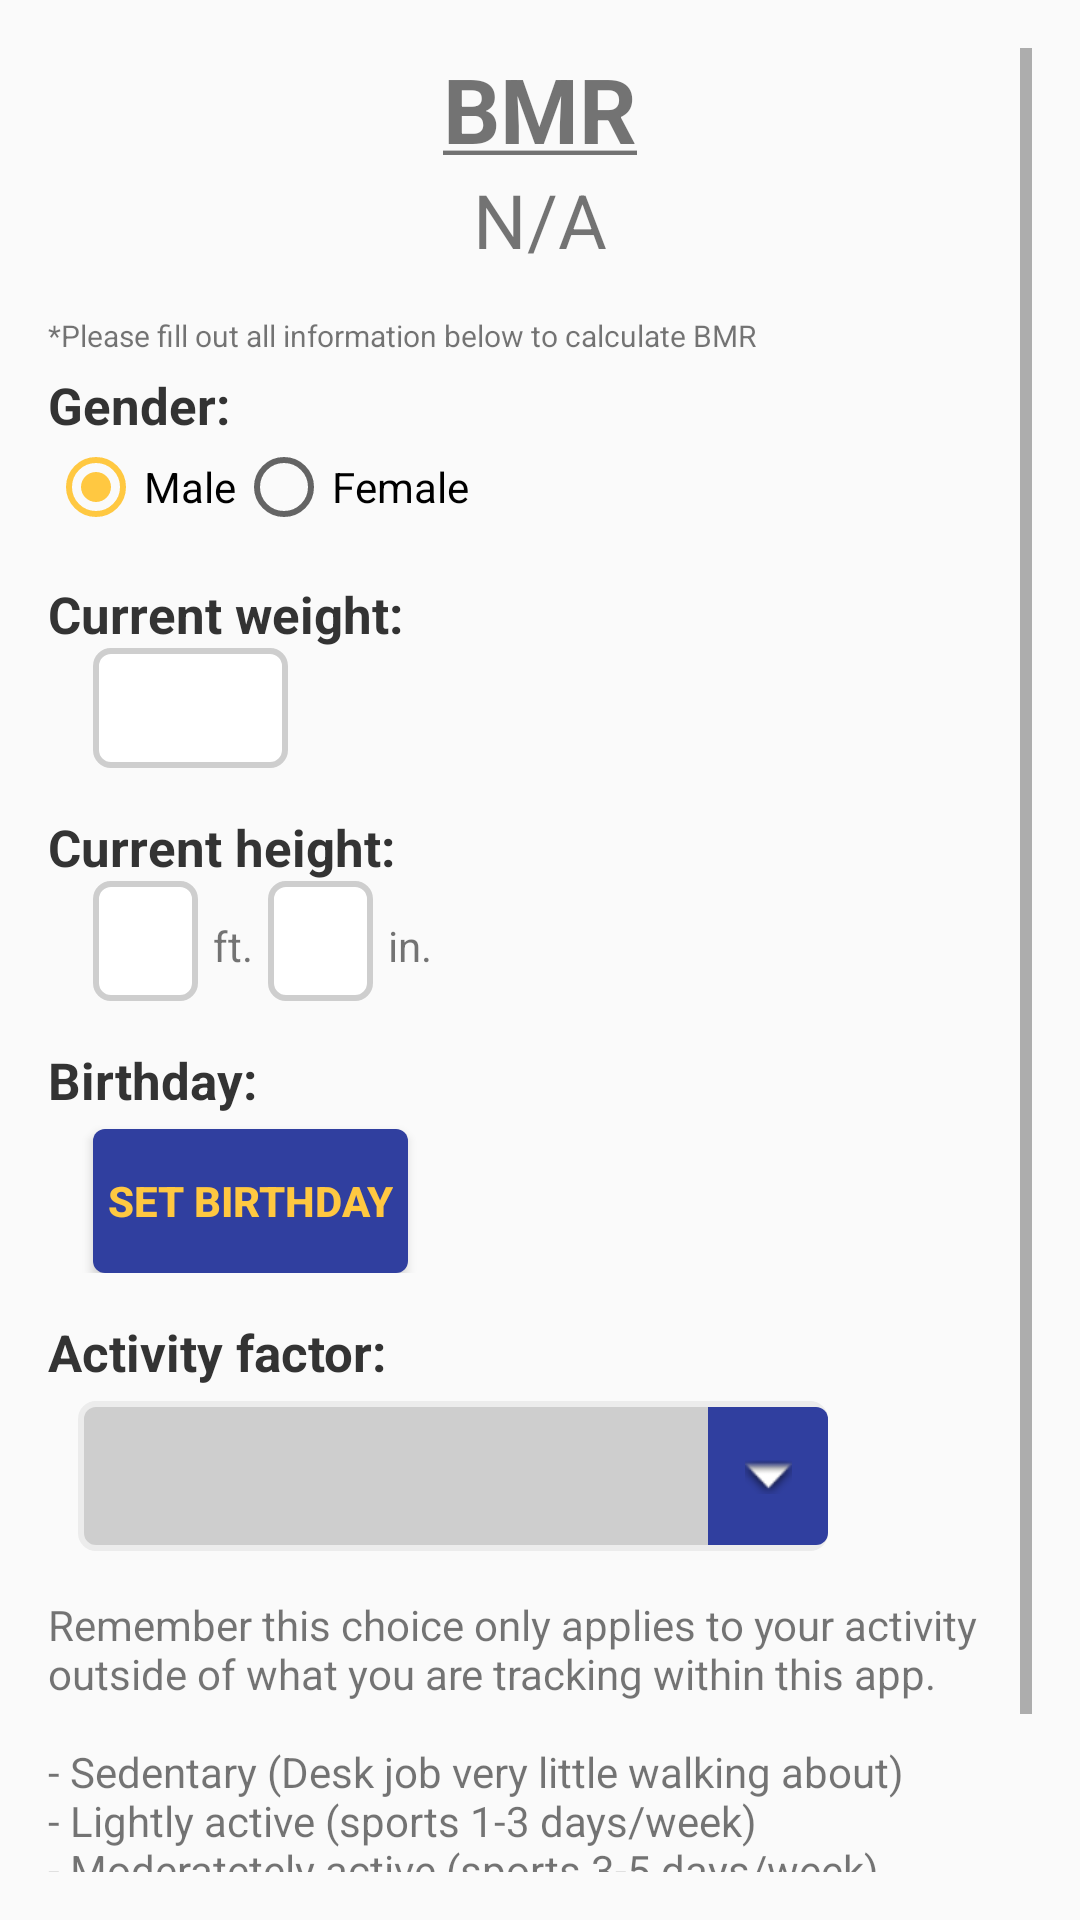

Icon click points for this 1080 x 1920 phone screenshot, format point (x, y):
arrow down float: point (768, 1476)
